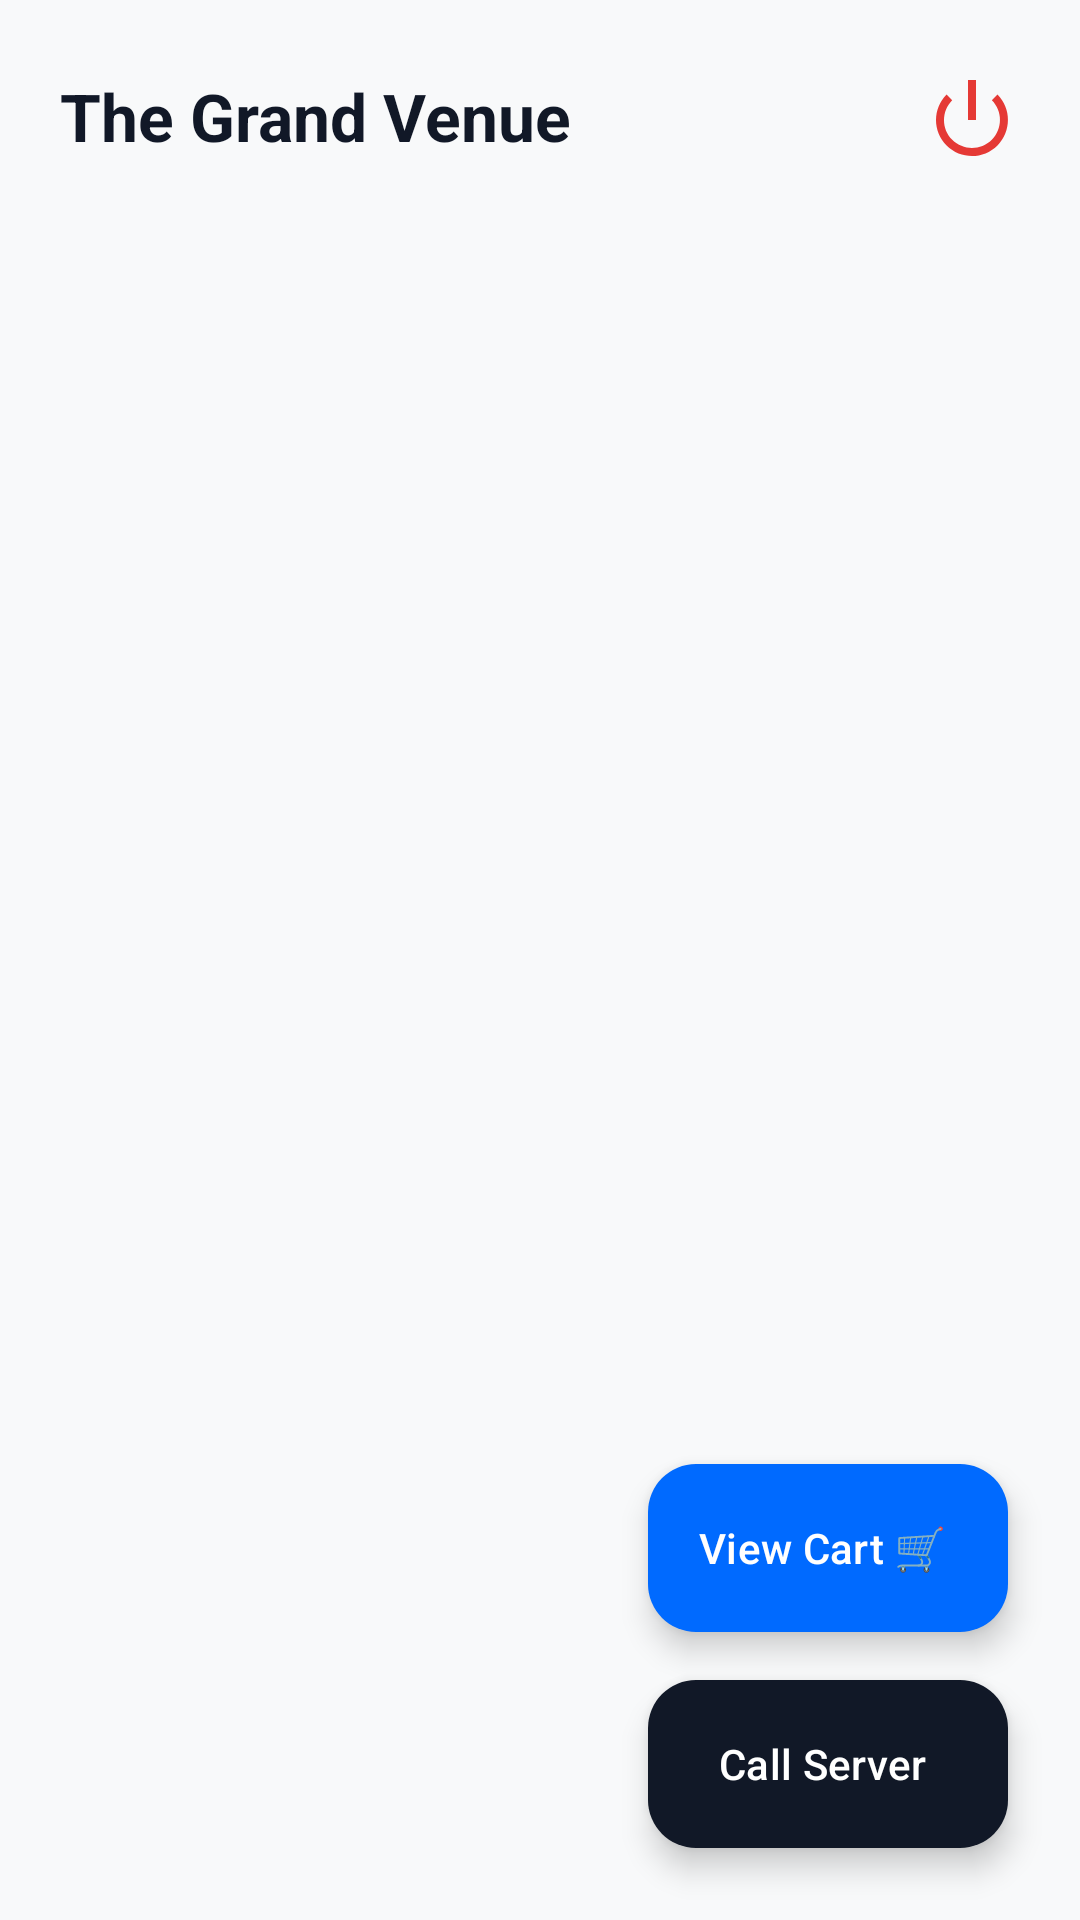

Named icons in this screenshot (1080 x 1920) and their bounding boxes, (x1, y1, x2, y2):
lock power off: (936, 80, 1008, 156)
